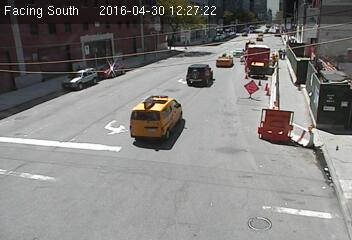neg: (132, 76, 148, 98), (193, 42, 204, 57), (228, 12, 238, 24)
pos: (279, 46, 289, 59), (275, 46, 285, 59)
